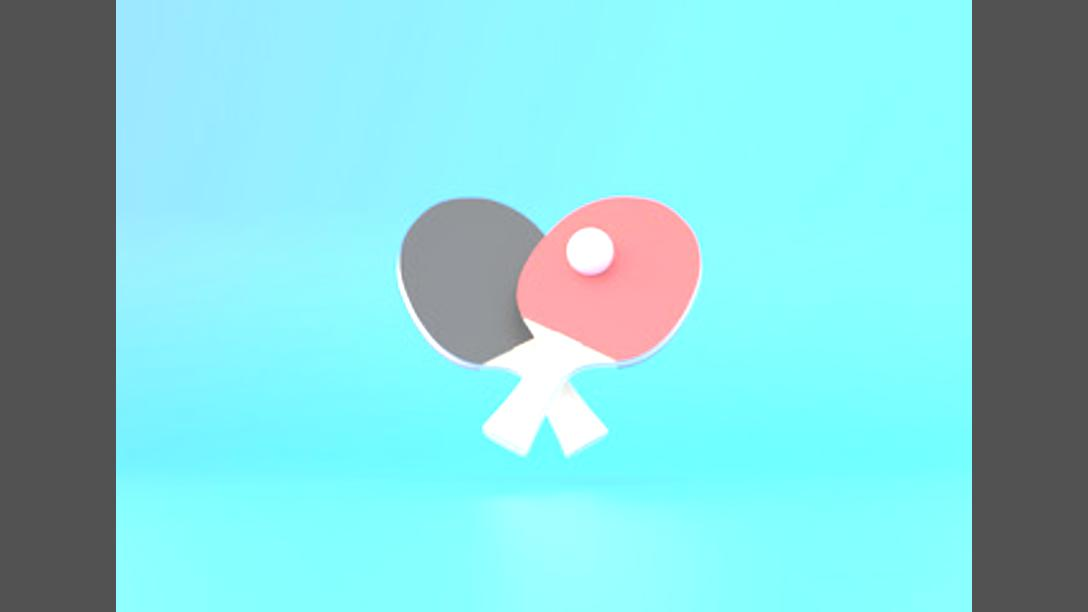Table-Tennis-Ball: (567, 228, 612, 274)
